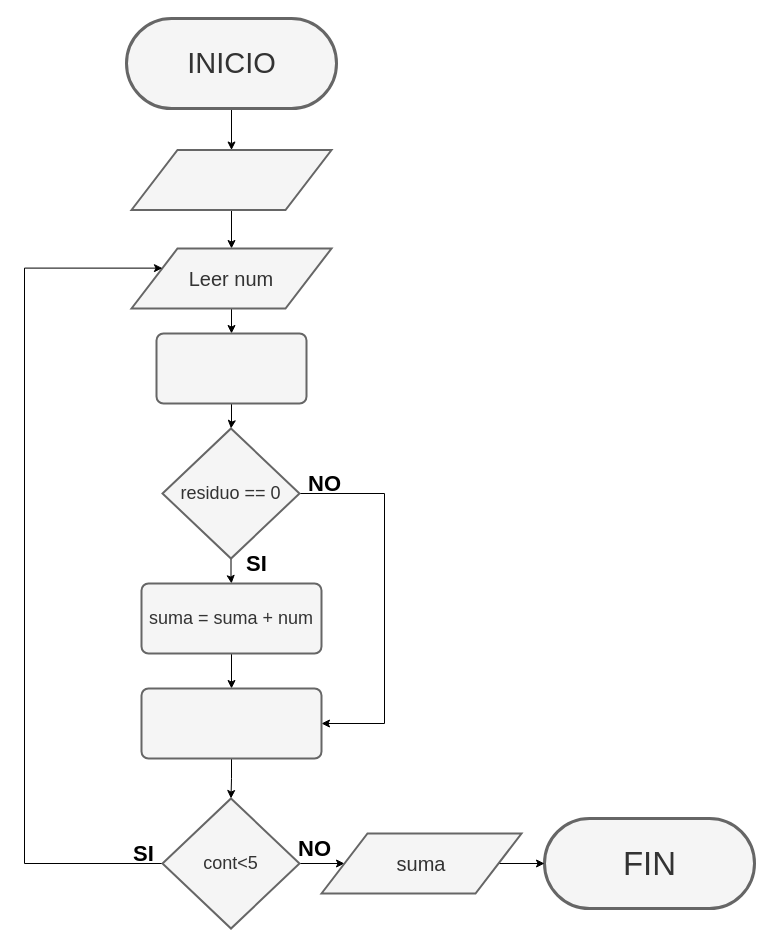
Some shapes in this 773 by 947 pixel diagram are drawn without their labels. Here are the shapes that lost their labels. From the top down, the centre of each, then its label:
(x=231, y=179): cont = 0
(x=231, y=368): residuo = num%2
(x=231, y=723): cont = cont + 1
